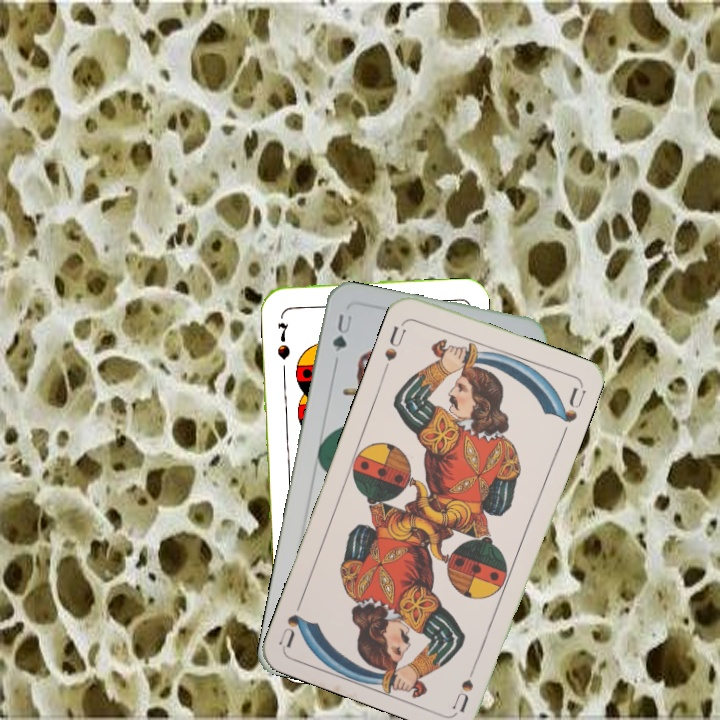GU: (328, 310, 355, 356)
S7: (273, 318, 293, 362)
SU: (449, 654, 481, 713), (379, 317, 409, 374)
